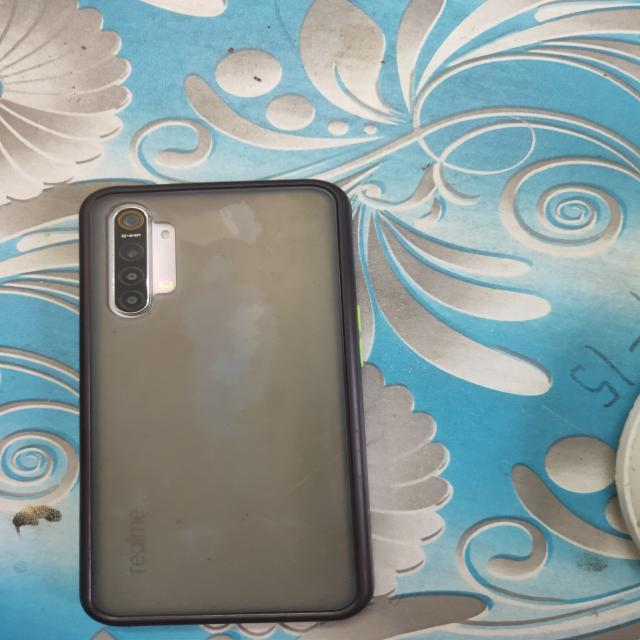Phone: (73, 181, 378, 628)
